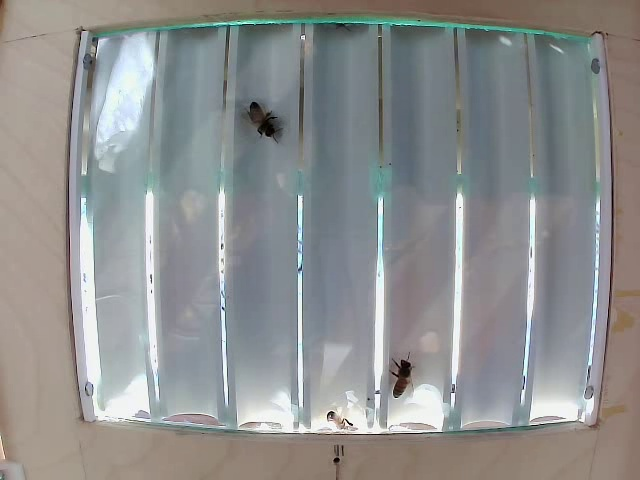bee: (241, 95, 291, 147), (389, 351, 421, 400)
